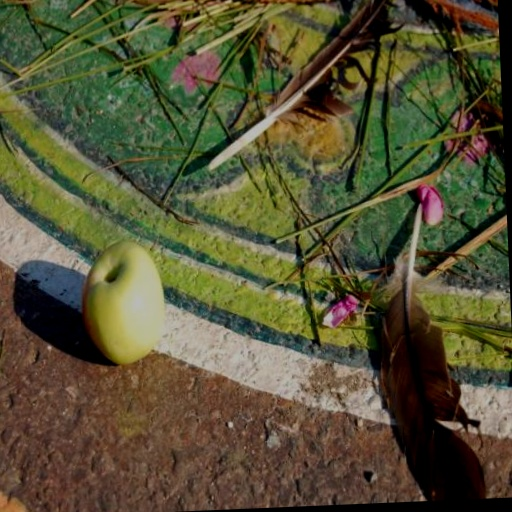fruit: (83, 242, 164, 364)
